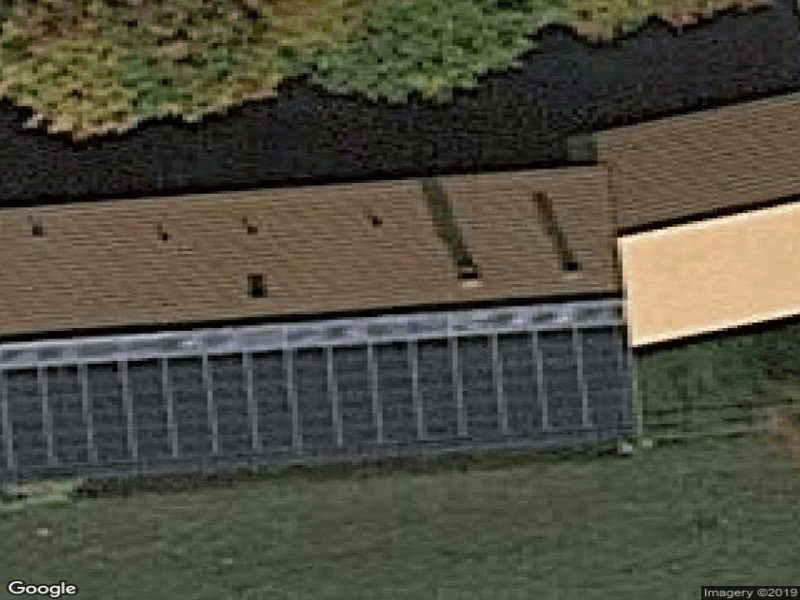pv: (1, 324, 635, 479)
